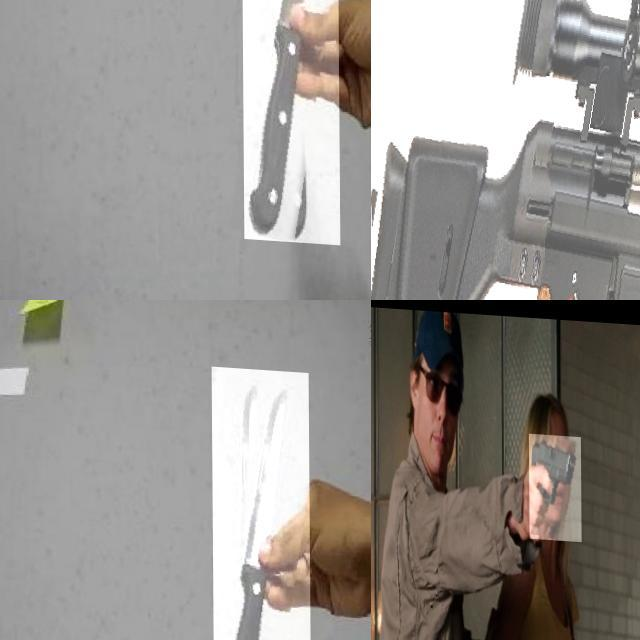-: (211, 361, 311, 640), (241, 0, 339, 239)
gun-knife-thesis - v11 Yolov5 augmented: (371, 0, 640, 300), (529, 429, 581, 536)
